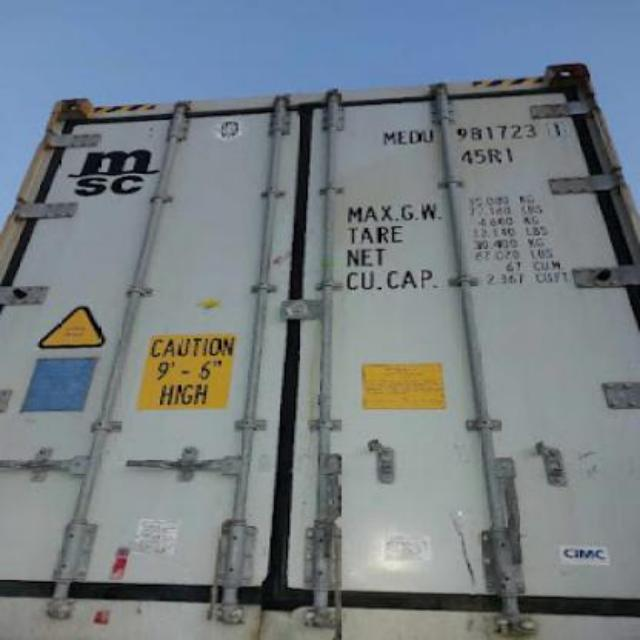1: (550, 124, 564, 138), (484, 124, 496, 140)
2: (512, 123, 524, 139)
3: (524, 122, 538, 140)
7: (496, 123, 508, 139)
8: (471, 126, 484, 140)
9: (456, 128, 468, 142)
D: (410, 130, 420, 142)
E: (398, 127, 408, 145)
M: (384, 130, 394, 146)
U: (422, 130, 434, 142)
